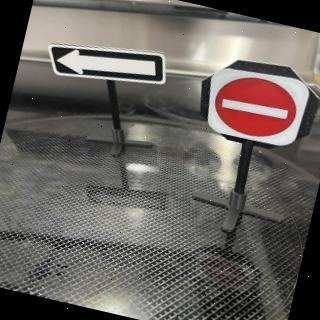sign_noentry: (196, 58, 319, 157)
sign_oneway_left: (43, 28, 173, 101)
